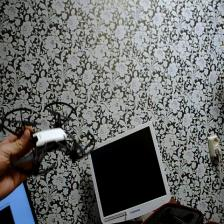drone: (0, 93, 105, 180)
